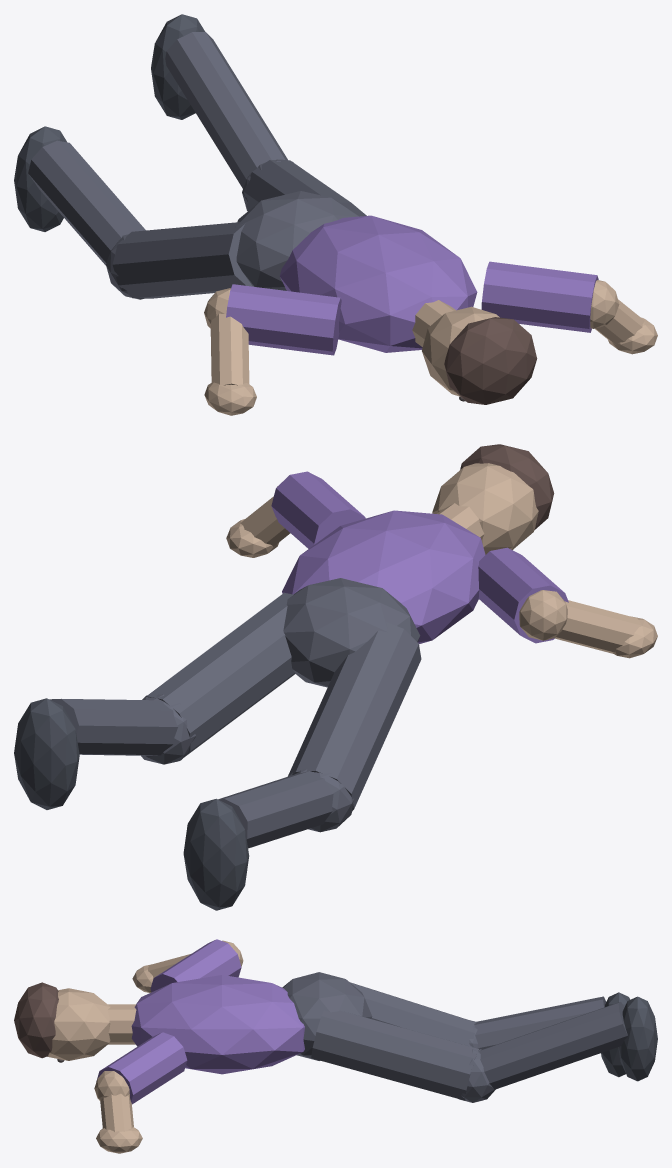
3 renders of one model, top to bottom at view 1: azimuth 30°, elevation 25°; view 2: azimuth 150°, elevation 25°; view 3: azimuth 270°, elevation 25°, orthographic. The views are drawn at different scales.
Visible parts, largest first — view 1: world; view 2: world; view 3: world.
Boxes of the visible parts, left/top/right/bottom form: world: left=14, top=14, right=657, bottom=415; world: left=14, top=444, right=657, bottom=910; world: left=14, top=939, right=657, bottom=1153.
Bounding box in the file's own units: 1.25 × 0.4905 × 2.06.
